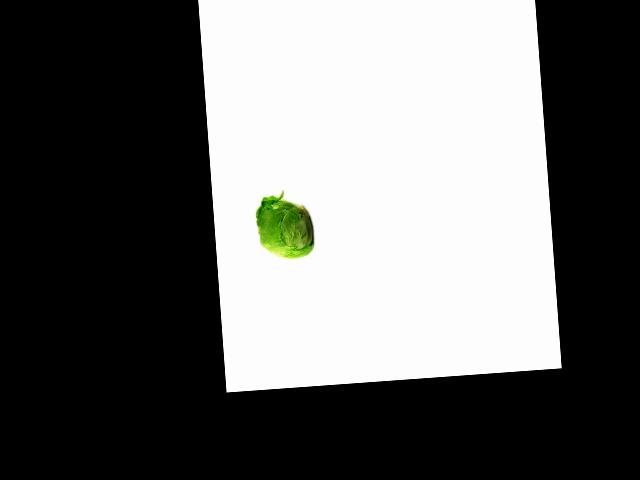lettuce: (252, 195, 317, 263)
